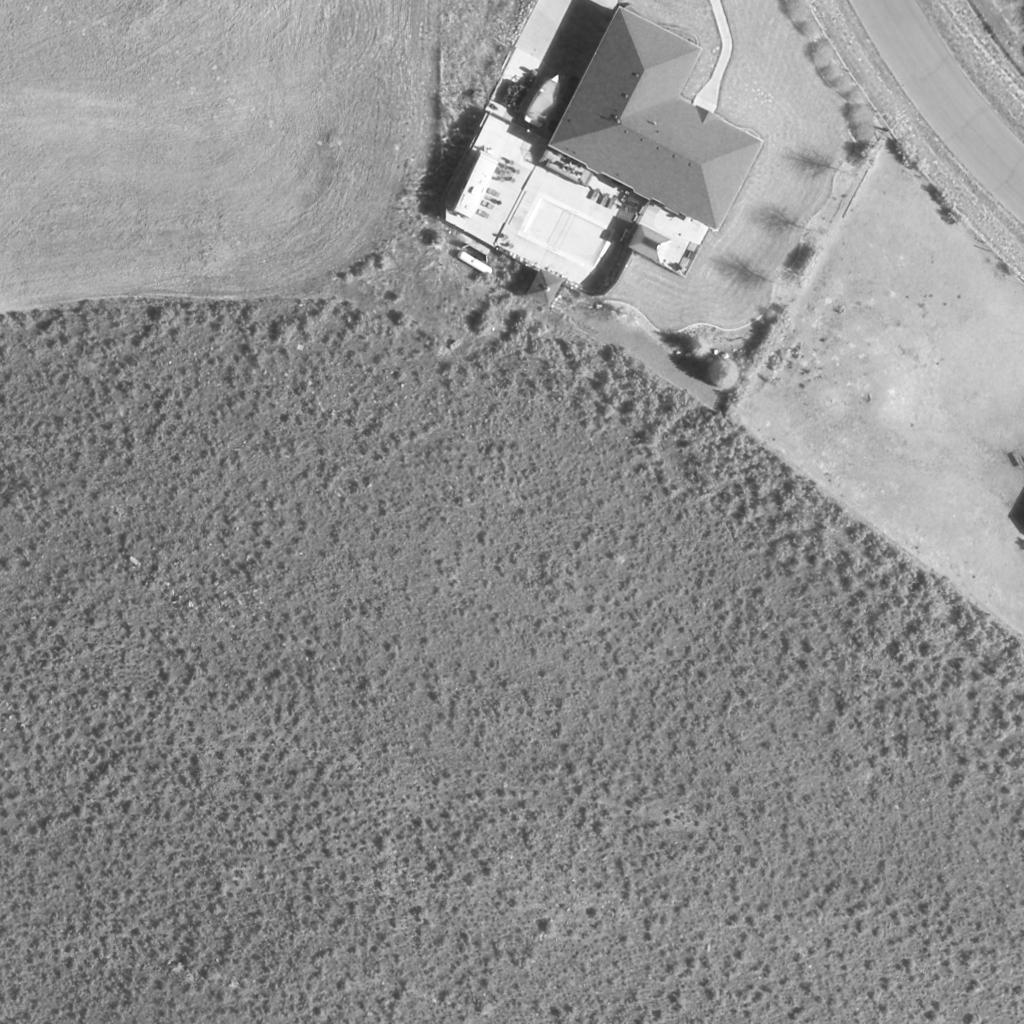vehicle: (455, 149, 497, 221), (521, 70, 567, 130)
